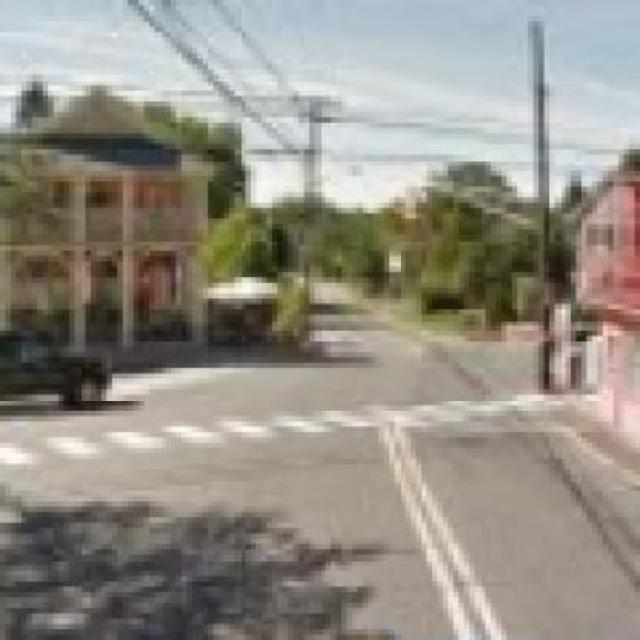crosswalk: (0, 394, 535, 467)
